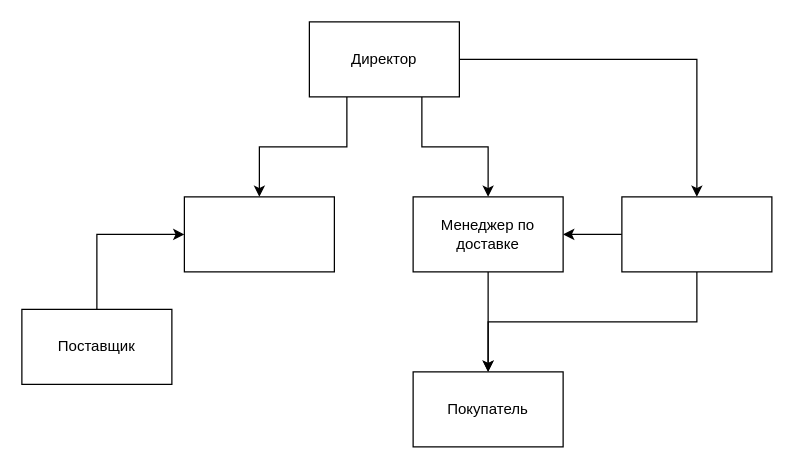
This 794x469 diagram has some shape labels left out. Here are the shapes that lost their labels. From the top down, the centre of each, then its label:
the point at 258,234: Менеджер по закупкам
the point at 696,234: Оператор
